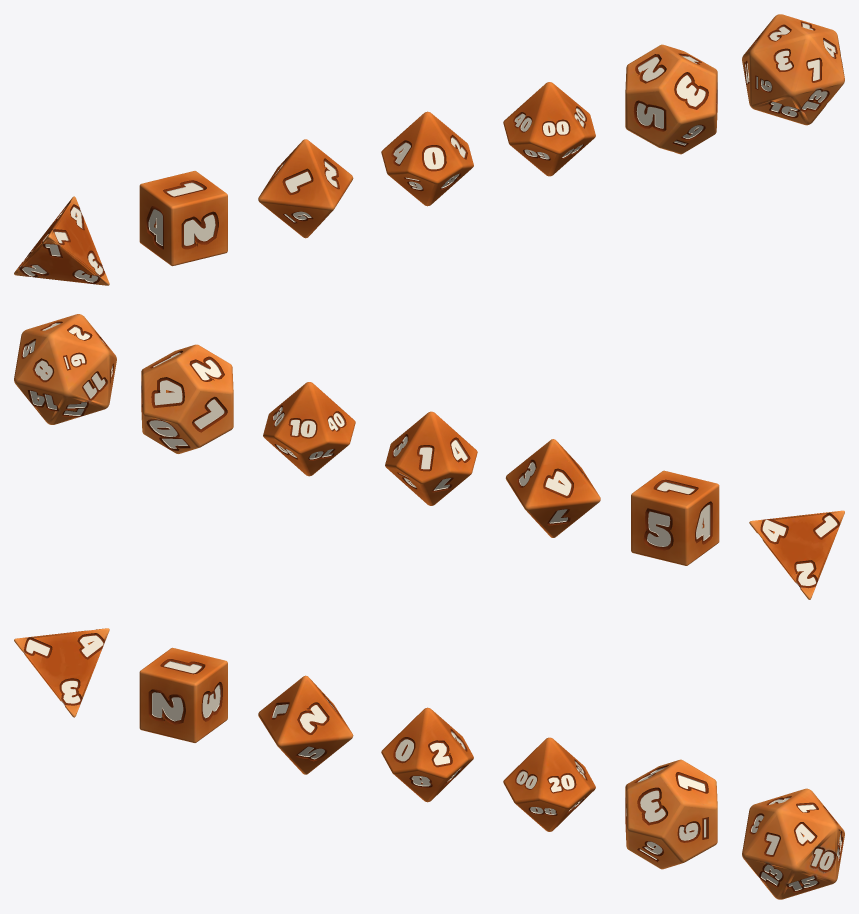
The model's file is tangerine.glb.
3 views of the same model, one above another, from view 1: azimuth 30°, elevation 25°; view 2: azimuth 150°, elevation 25°; view 3: azimuth 330°, elevation 25° (orthographic).
Parts seen in each view (by area): view 1: d20, d12, d6, d100, d10, d8, d4; view 2: d20, d12, d6, d100, d10, d8, d4; view 3: d20, d12, d6, d8, d10, d100, d4.
Part boxes in pixels (x1,y1,x2,y2): d20: (742,14,844,125); d12: (625,44,717,154); d6: (139,171,227,266); d100: (503,82,595,176); d10: (381,111,473,206); d8: (258,139,353,238); d4: (14,196,109,285); d20: (14,314,116,424); d12: (141,344,233,453); d6: (631,470,719,565); d100: (263,382,355,476); d10: (385,411,477,505); d8: (505,439,600,537); d4: (749,510,844,599); d20: (742,788,844,899); d12: (625,759,717,869); d6: (139,647,227,742); d8: (258,675,353,774); d10: (381,707,473,802); d100: (503,737,595,831); d4: (14,628,109,717).
Size of the model in its own units: 21.14 by 2.47 by 2.47.
Materials: 21 (7 with a texture image).
